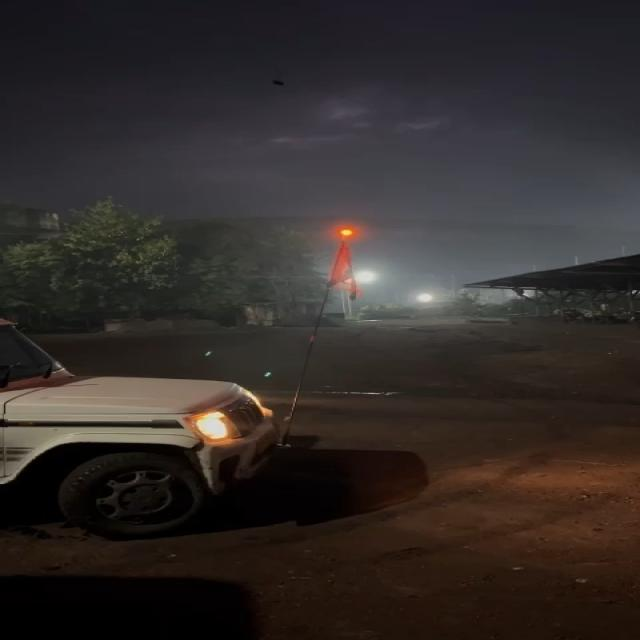light_vehicle: (1, 320, 280, 534)
